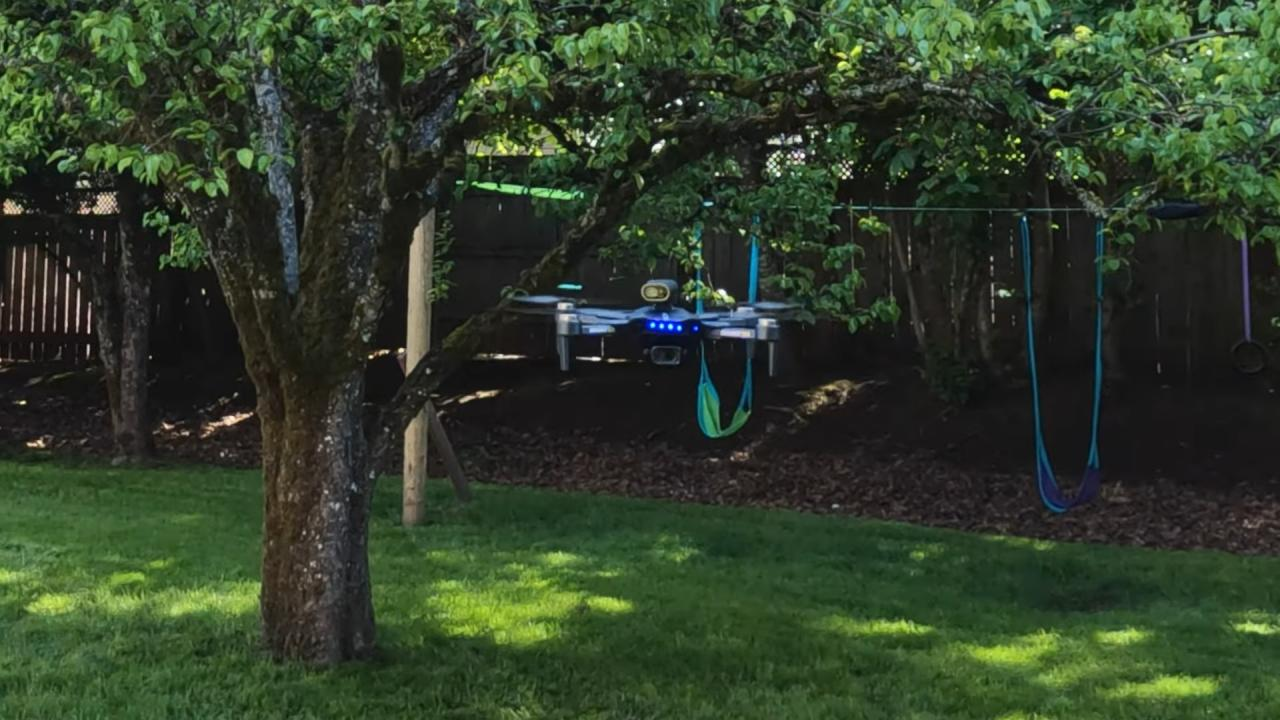Drone: (490, 267, 817, 378)
